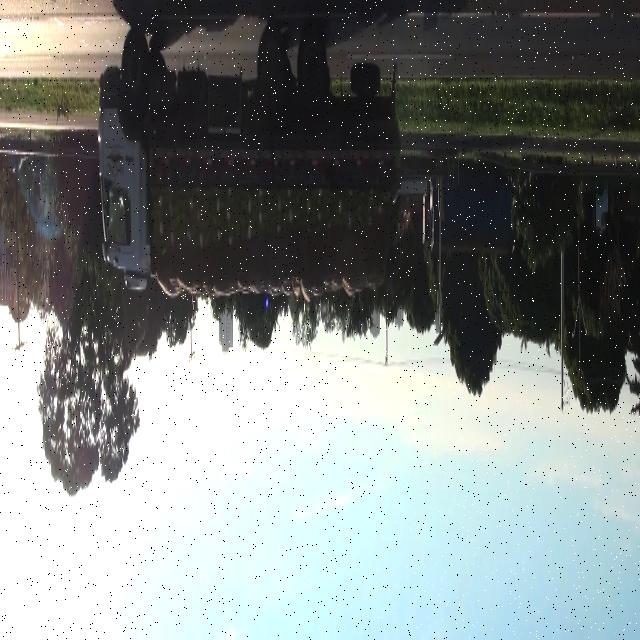-axle: (255, 32, 288, 124), (295, 36, 327, 119), (120, 33, 150, 120)
